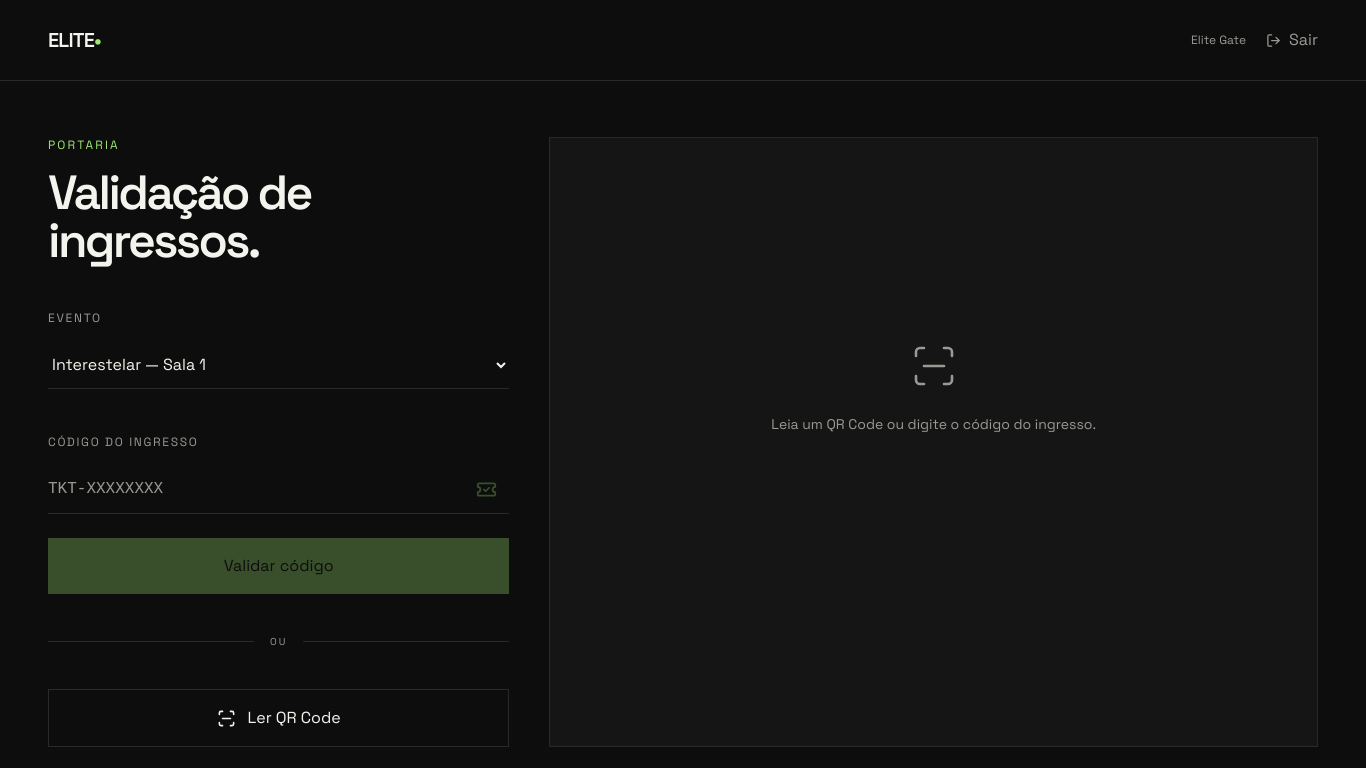
Scenario: GatePage › mostra aviso para ingresso já utilizado
Type "TKT-USED123" into the field with placeholder "TKT-XXXXXXXX".
click(256, 489); type("TKT-USED123")  # box [48,465,464,513]
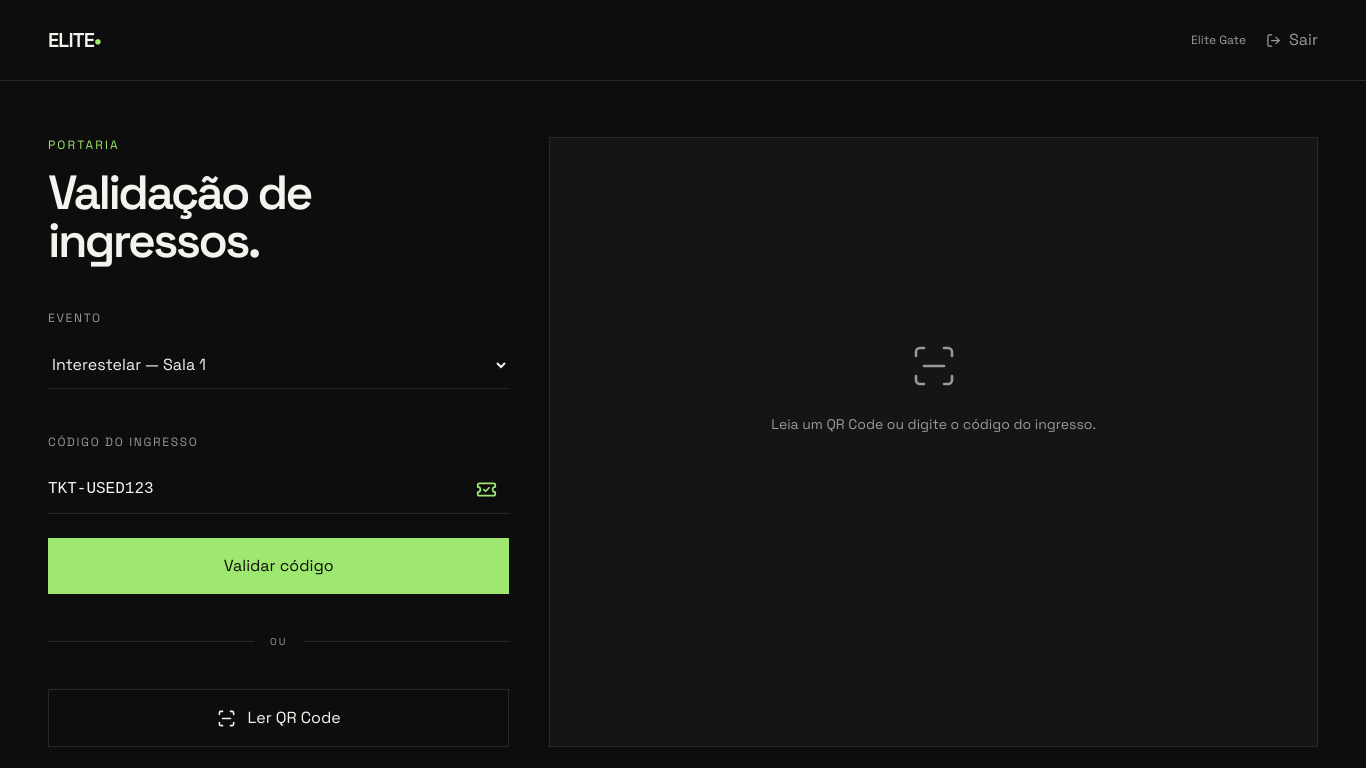
Click the button "Validar código".
click(279, 566)  # box [48,538,509,594]
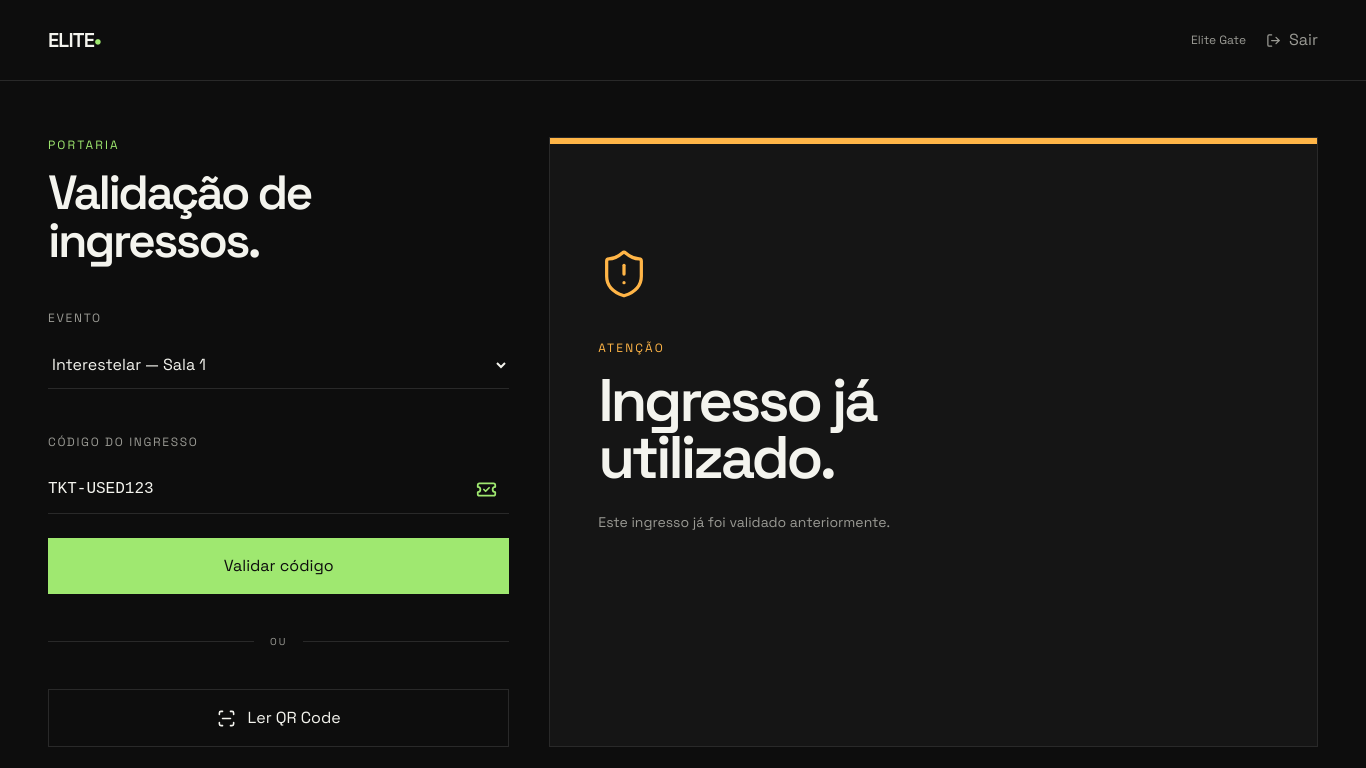
Expected: the heading "Ingresso já utilizado." is shown, [598,362,876,496]
